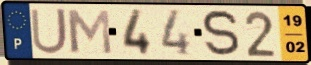2: (243, 8, 278, 59)
4: (158, 8, 195, 57), (120, 7, 154, 58)
M: (64, 8, 115, 56)
S: (200, 8, 242, 59)
U: (29, 6, 70, 56)
